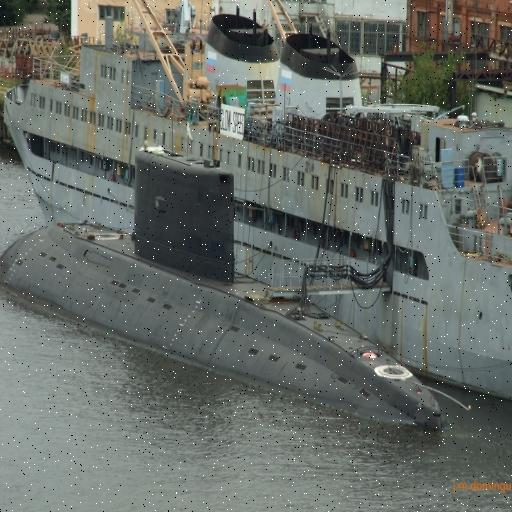submarine: (1, 144, 453, 428)
